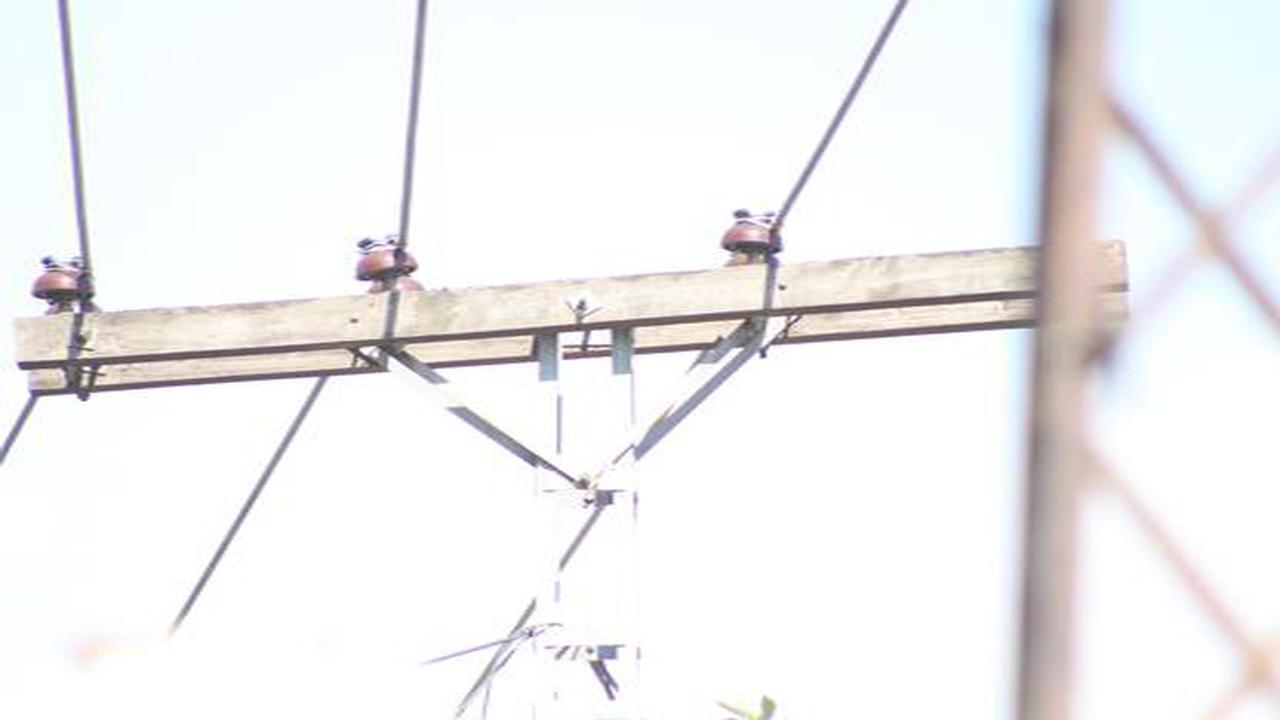insulator_pin: (714, 202, 794, 262), (347, 225, 422, 284), (28, 249, 98, 309)
